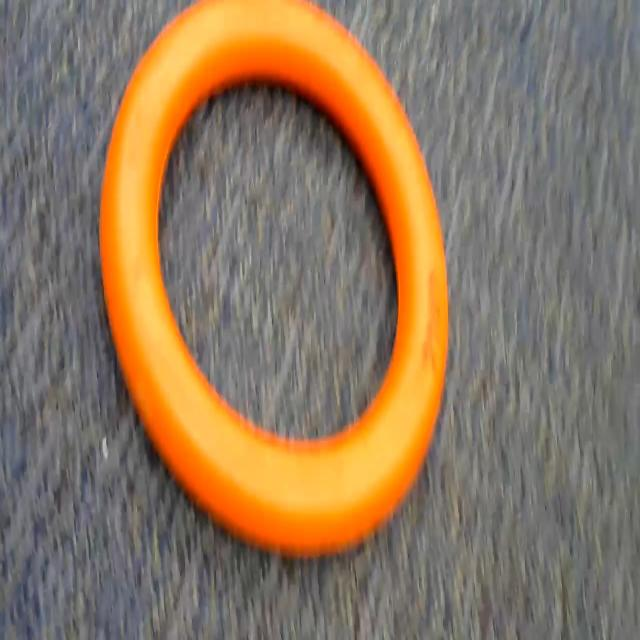note: (79, 0, 464, 580)
